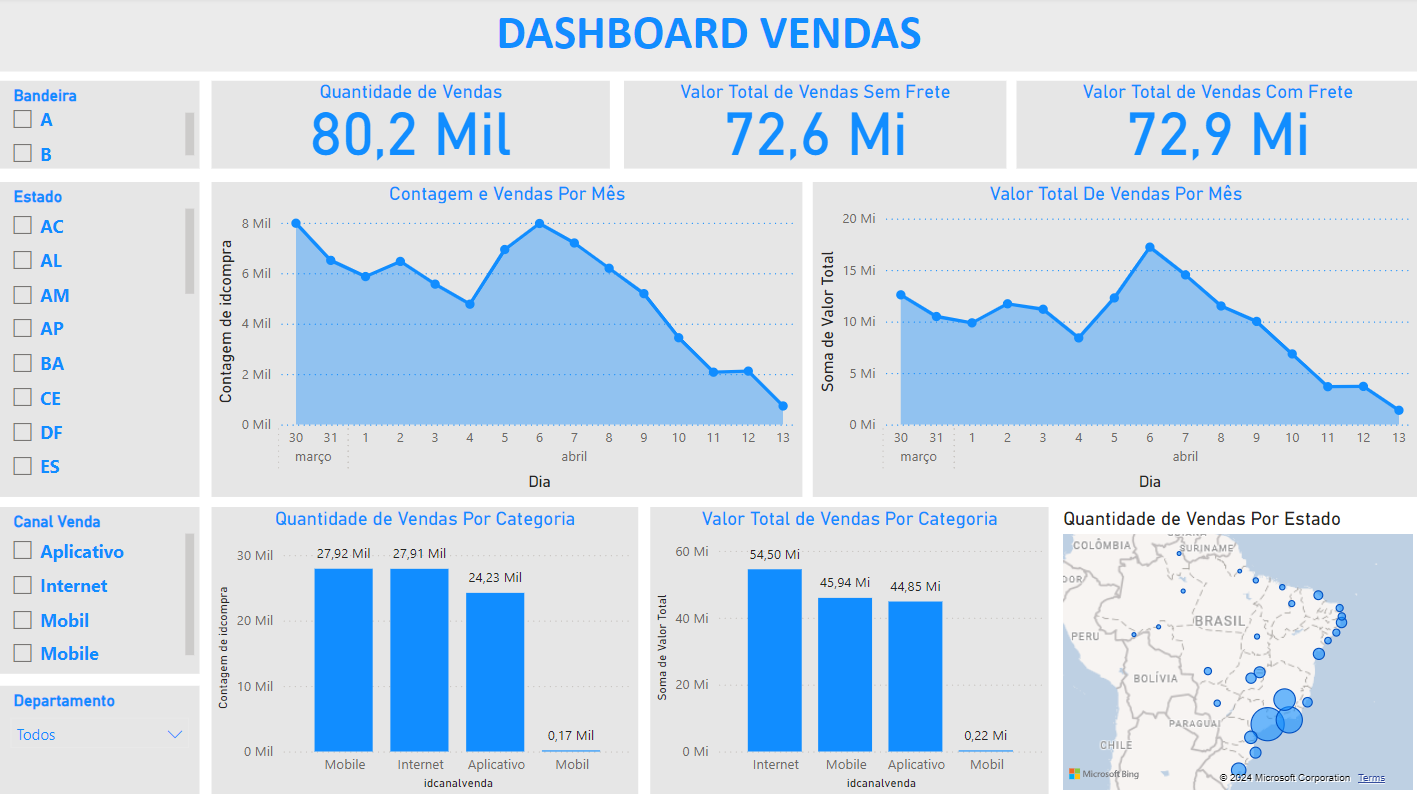

The page's visual inventory and layout, read from the dashboard file:
{"tool":"powerbi","page":{"name":"VENDAS","canvas":[1280,720],"ordinal":0},"visuals":[{"type":"card","title":"Quantidade de Vendas","fields":{"Values":["CountNonNull(base compra.idcompra)"]},"box":[192,75.8,359.5,79.5],"z":0},{"type":"card","title":"Valor Total de Vendas Sem Frete","fields":{"Values":["Sum(base compra.Preço)"]},"box":[563.7,75.8,344.8,79.5],"z":1000},{"type":"card","title":"Valor Total de Vendas Com Frete","fields":{"Values":["Sum(base compra.Preço_com_frete)"]},"box":[917.1,75.8,363.2,79.5],"z":2000},{"type":"lineChart","title":"Contagem e Vendas Por Mês","fields":{"Y":["Count(base compra.idcompra)"],"Category":["base compra.Data.Variation.Hierarquia de datas.Mês","base compra.Data.Variation.Hierarquia de datas.Dia"]},"box":[192,166.3,533.2,283.7],"z":3000},{"type":"lineChart","title":"Valor Total De Vendas Por Mês","fields":{"Y":["Sum(base compra.Valor Total)"],"Category":["base compra.Data.Variation.Hierarquia de datas.Mês","base compra.Data.Variation.Hierarquia de datas.Dia"]},"box":[733.7,166.3,546.6,283.7],"z":4000},{"type":"columnChart","title":"Quantidade de Vendas Por Categoria","fields":{"Category":["base compra.idcanalvenda"],"Y":["CountNonNull(base compra.idcompra)"]},"box":[192,459.8,385.2,260.5],"z":5000},{"type":"columnChart","title":"Valor Total de Vendas Por Categoria","fields":{"Category":["base compra.idcanalvenda"],"Y":["Sum(base compra.Valor Total)"]},"box":[587,459.8,359.5,260.5],"z":6000},{"type":"slicer","fields":{"Values":["base compra.bandeira"]},"box":[0,75.8,181,79.5],"z":7000},{"type":"slicer","fields":{"Values":["base compra.estado.1"]},"box":[0,166.3,181,283.7],"z":8000},{"type":"slicer","fields":{"Values":["base compra.idcanalvenda"]},"box":[0,459.8,181,150.4],"z":9000},{"type":"slicer","fields":{"Values":["base compra.Nome_Departamento"]},"box":[0,620.6,180.8,99.8],"z":10000},{"type":"textbox","box":[0,0,1280.2,66.9],"z":11000},{"type":"map","title":"Quantidade de Vendas Por Estado","fields":{"Size":["CountNonNull(base compra.idcompra)"],"Category":["base compra.State"]},"box":[955,459.8,325.3,260.5],"z":12000}]}

Visuals, with their boxes in screenshot pixels (x1, y1, x2, y2), scaled from the page's 1280x720 canvas onto the 1417x794 screenshot:
"Quantidade de Vendas" card: select_region(213, 84, 611, 171)
"Valor Total de Vendas Sem Frete" card: select_region(624, 84, 1006, 171)
"Valor Total de Vendas Com Frete" card: select_region(1015, 84, 1416, 171)
"Contagem e Vendas Por Mês" lineChart: select_region(213, 183, 803, 496)
"Valor Total De Vendas Por Mês" lineChart: select_region(812, 183, 1416, 496)
"Quantidade de Vendas Por Categoria" columnChart: select_region(213, 507, 639, 793)
"Valor Total de Vendas Por Categoria" columnChart: select_region(650, 507, 1048, 793)
slicer - base compra.bandeira: select_region(0, 84, 200, 171)
slicer - base compra.estado.1: select_region(0, 183, 200, 496)
slicer - base compra.idcanalvenda: select_region(0, 507, 200, 673)
slicer - base compra.Nome_Departamento: select_region(0, 684, 200, 793)
textbox: select_region(0, 0, 1416, 74)
"Quantidade de Vendas Por Estado" map: select_region(1057, 507, 1416, 793)
